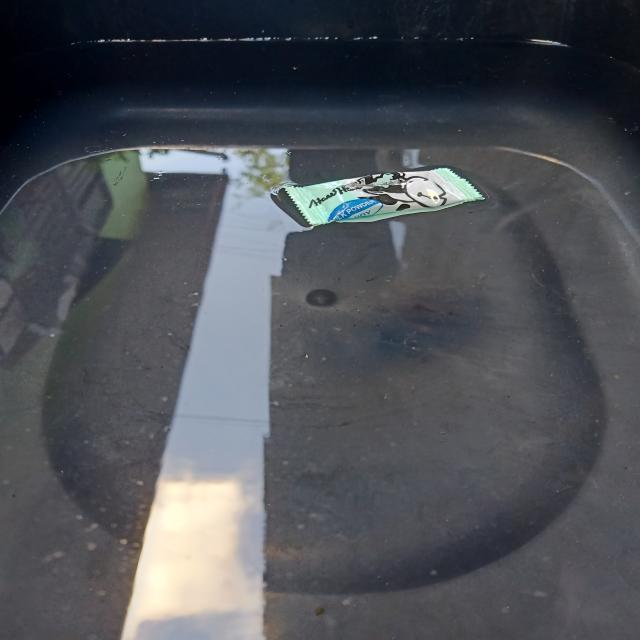Plastic Wrapper: (278, 165, 488, 232)
